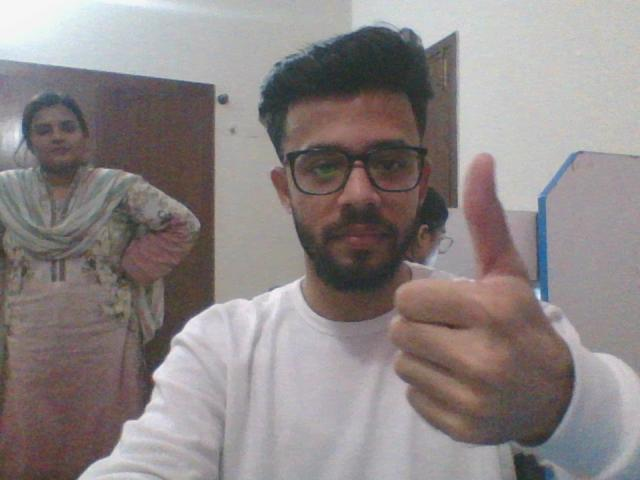thumbs-up: (395, 151, 553, 449)
